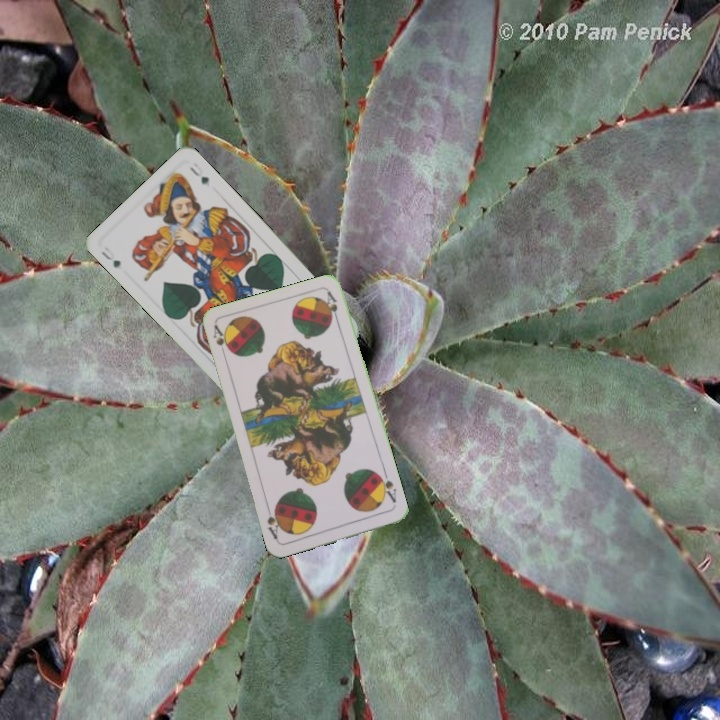GU: (97, 247, 123, 270)
SA: (209, 321, 233, 361), (374, 469, 399, 505)
